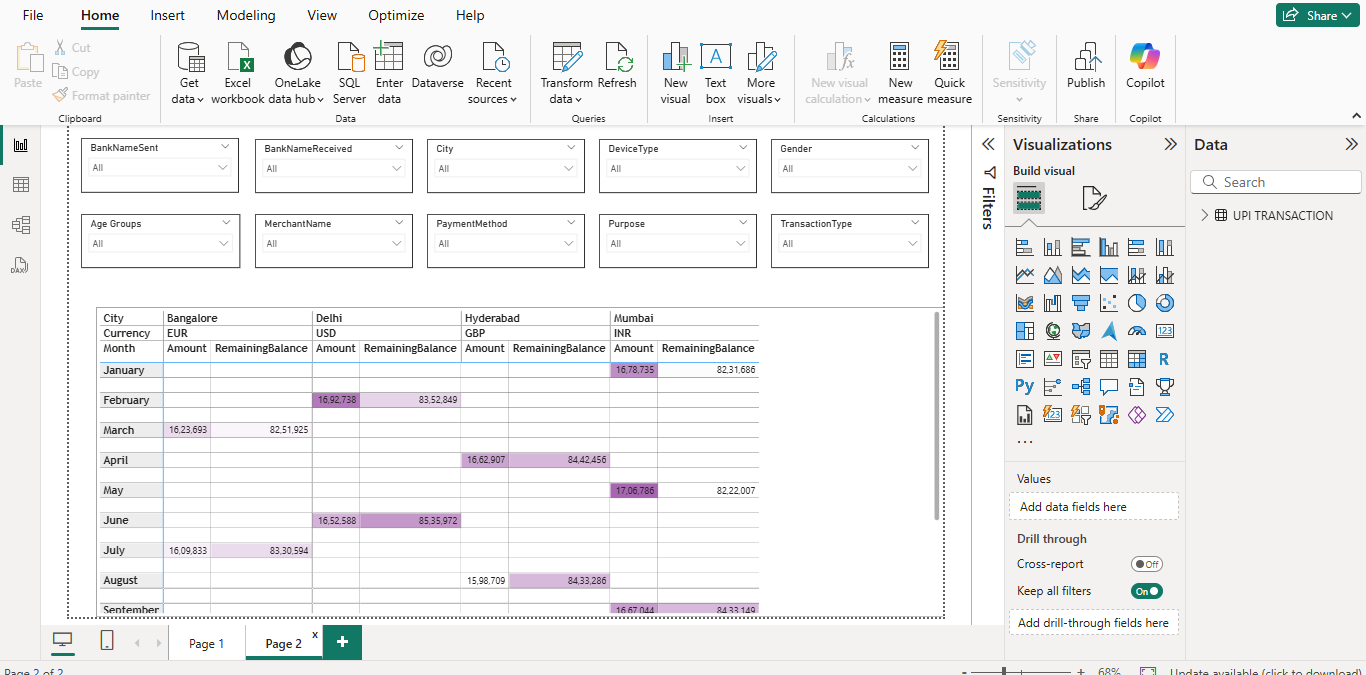

This screenshot's page, from the dashboard's own definition file:
{"tool":"powerbi","page":{"name":" Page 2","canvas":[1280,720],"ordinal":1},"visuals":[{"type":"slicer","fields":{"Values":["UPI TRANSACTION.Age Groups"]},"box":[17.6,130.2,232.7,79],"z":0},{"type":"slicer","fields":{"Values":["UPI TRANSACTION.BankNameReceived"]},"box":[272.2,20.5,231.2,79],"z":1000},{"type":"slicer","fields":{"Values":["UPI TRANSACTION.City"]},"box":[524,20.5,231.2,79],"z":2000},{"type":"slicer","fields":{"Values":["UPI TRANSACTION.DeviceType"]},"box":[776,20.5,231.2,79],"z":3000},{"type":"slicer","fields":{"Values":["UPI TRANSACTION.Gender"]},"box":[1028,20,231.2,79],"z":4000},{"type":"slicer","fields":{"Values":["Sheet1.BankNameSent"]},"box":[17.6,19,231.2,80.5],"z":5000},{"type":"slicer","fields":{"Values":["UPI TRANSACTION.MerchantName"]},"box":[272.2,130.2,231.2,79],"z":6000},{"type":"slicer","fields":{"Values":["UPI TRANSACTION.PaymentMethod"]},"box":[523.9,130.2,231.2,79],"z":7000},{"type":"slicer","fields":{"Values":["UPI TRANSACTION.Purpose"]},"box":[775.6,130.2,231.2,79],"z":8000},{"type":"slicer","fields":{"Values":["UPI TRANSACTION.TransactionType"]},"box":[1027.3,130.2,231.2,79],"z":9000},{"type":"pivotTable","fields":{"Values":["Sum(UPI TRANSACTION.Amount)","Sum(UPI TRANSACTION.RemainingBalance)"],"Rows":["UPI TRANSACTION.TransactionDate.Variation.Date Hierarchy.Month"],"Columns":["UPI TRANSACTION.City","UPI TRANSACTION.Currency"]},"box":[39.5,266.3,1241,453.7],"z":10000}]}

Visuals, with their boxes on the page's 1280x720 design canvas (x1, y1, x2, y2). These are canvas units, not pixel positions in the 1366x675 screenshot, which may show the page scaled, cropped or inside an application window:
slicer - UPI TRANSACTION.Age Groups: 18,130,250,209
slicer - UPI TRANSACTION.BankNameReceived: 272,20,503,100
slicer - UPI TRANSACTION.City: 524,20,755,100
slicer - UPI TRANSACTION.DeviceType: 776,20,1007,100
slicer - UPI TRANSACTION.Gender: 1028,20,1259,99
slicer - Sheet1.BankNameSent: 18,19,249,100
slicer - UPI TRANSACTION.MerchantName: 272,130,503,209
slicer - UPI TRANSACTION.PaymentMethod: 524,130,755,209
slicer - UPI TRANSACTION.Purpose: 776,130,1007,209
slicer - UPI TRANSACTION.TransactionType: 1027,130,1258,209
pivotTable - Sum(UPI TRANSACTION.Amount) x Sum(UPI TRANSACTION.RemainingBalance): 40,266,1280,720
